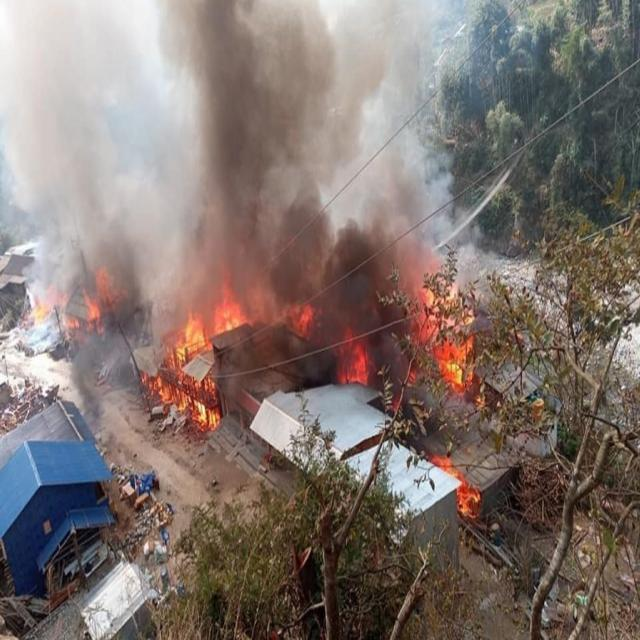fire: (154, 319, 220, 431), (433, 454, 486, 519)
smoke: (5, 4, 422, 246)
